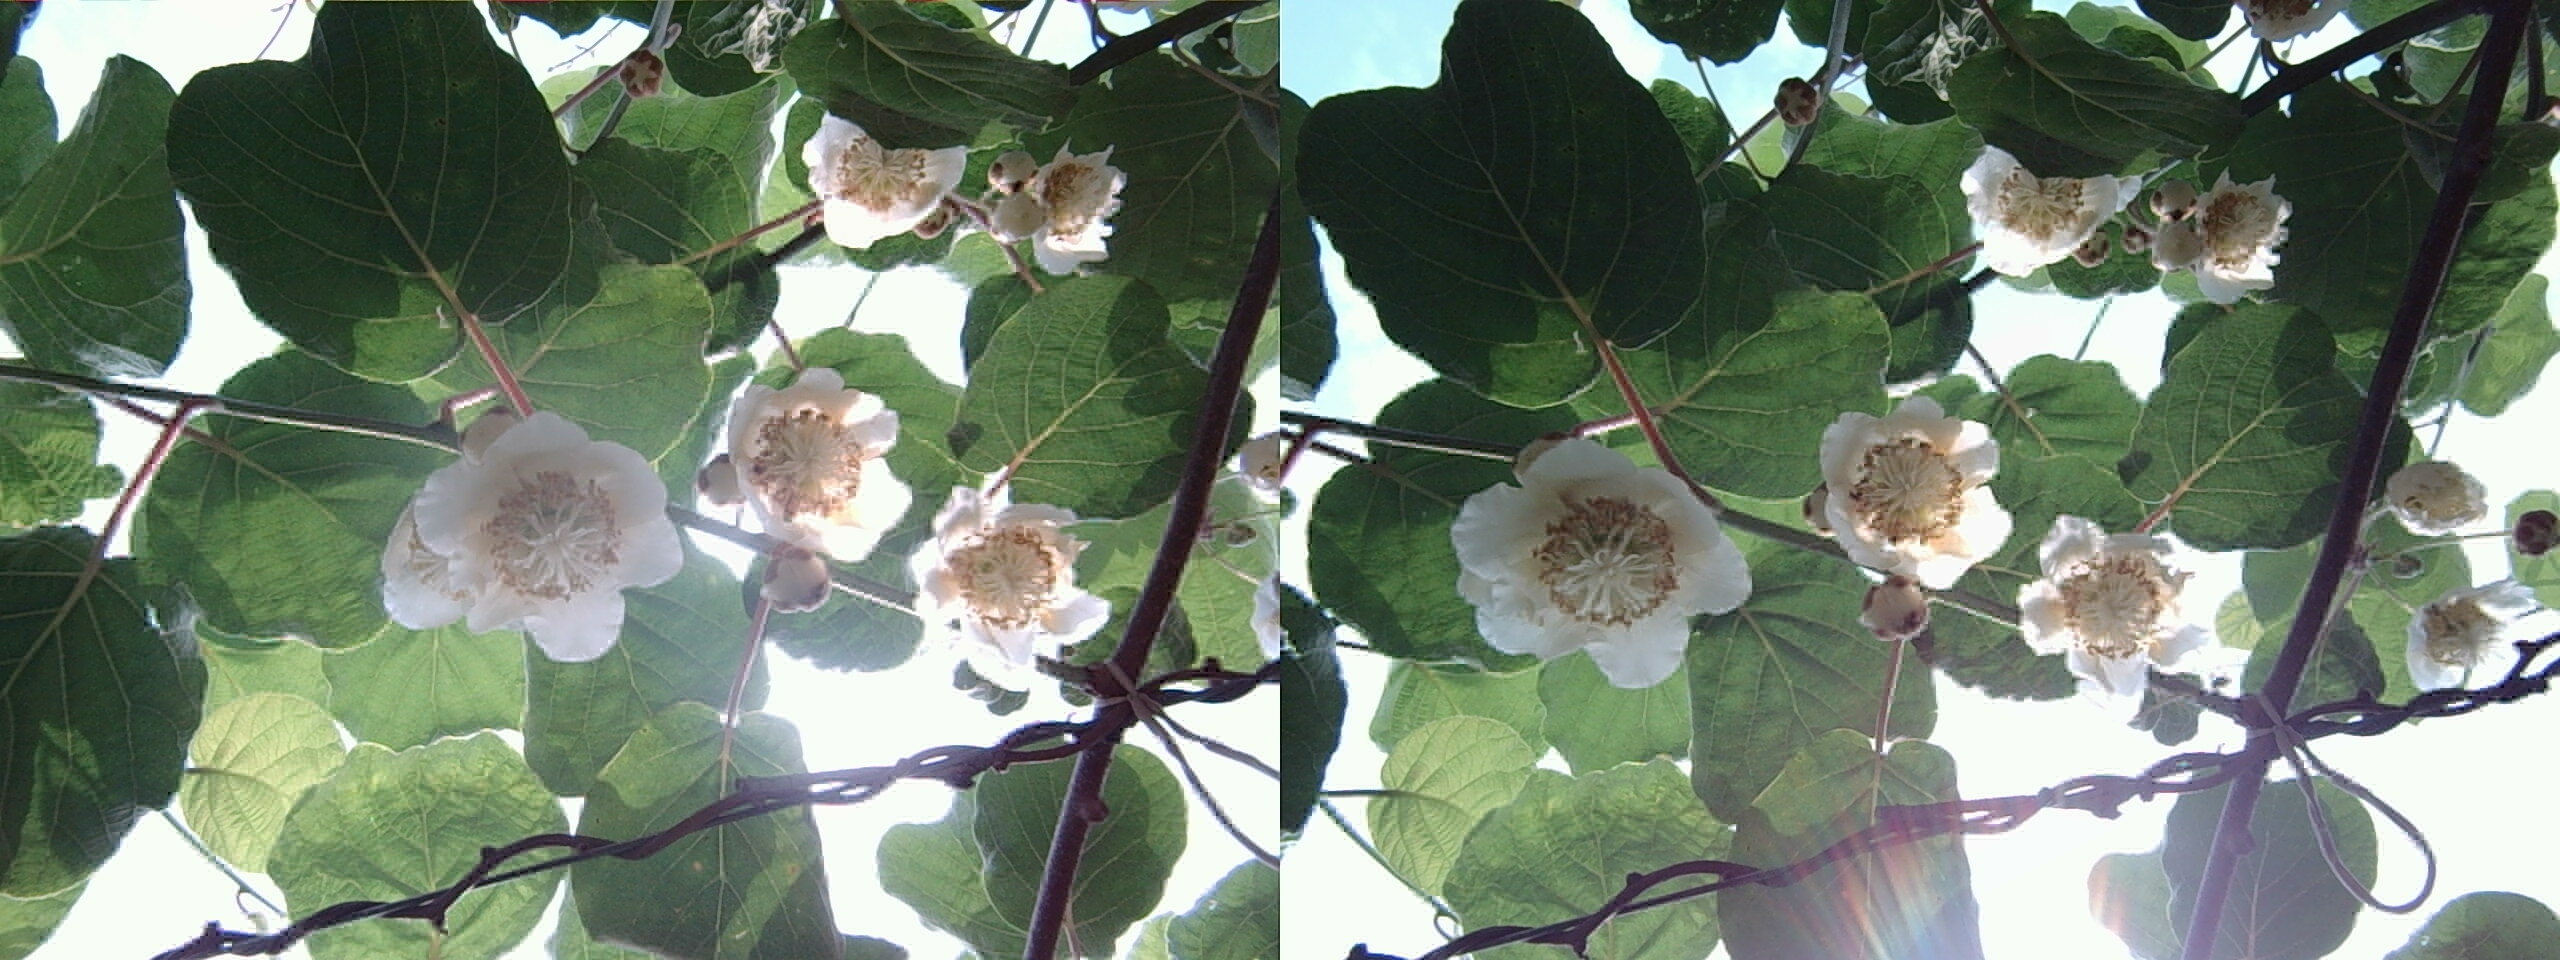flower: (387, 402, 682, 658), (1453, 429, 1737, 682), (901, 464, 1104, 676), (2003, 513, 2212, 713), (704, 361, 909, 557), (1806, 397, 2011, 584), (2140, 171, 2292, 299), (810, 118, 962, 243), (1966, 150, 2122, 268), (981, 145, 1122, 268)
